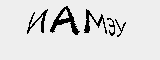А: (51, 6, 79, 37)
И: (27, 7, 47, 34)
М: (83, 10, 109, 34)
У: (115, 18, 127, 40)
Э: (105, 17, 119, 39)
